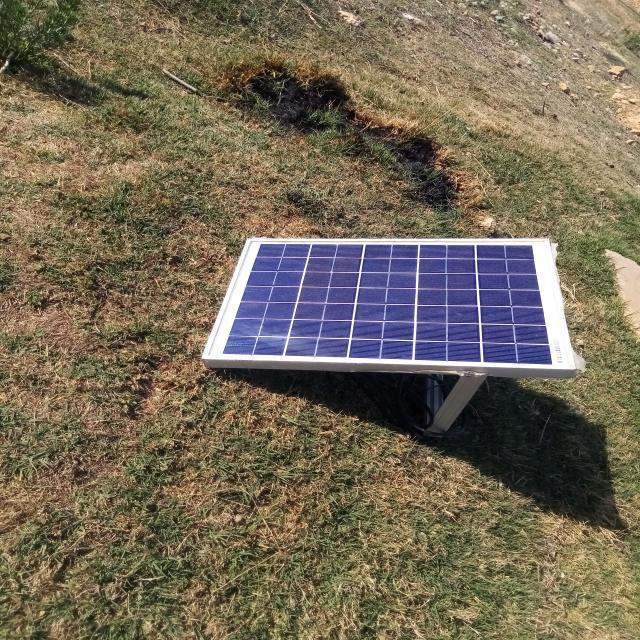no faulty: (202, 238, 577, 371)
